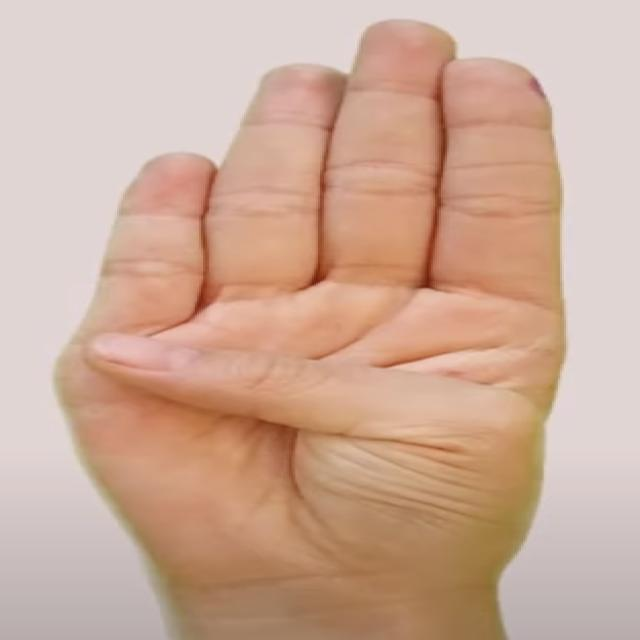B: (44, 10, 568, 612)
